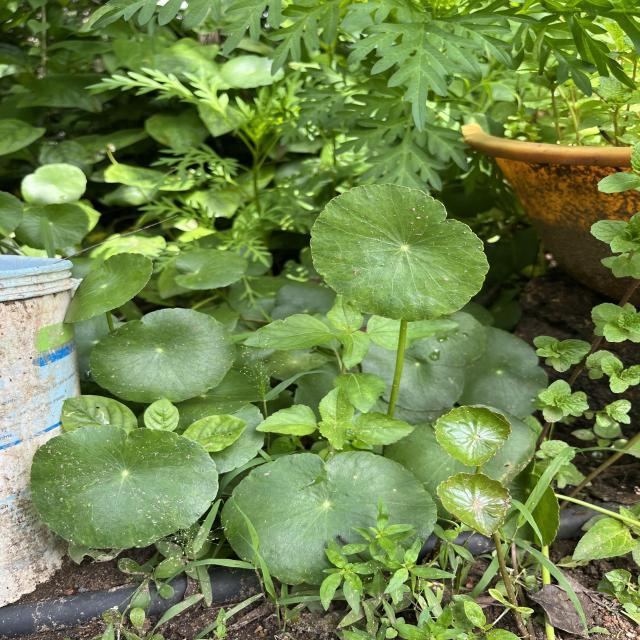Bacopa monnieri: (306, 182, 492, 324), (27, 423, 221, 551), (87, 306, 240, 405), (60, 248, 156, 326), (434, 470, 514, 540), (433, 403, 514, 468)
